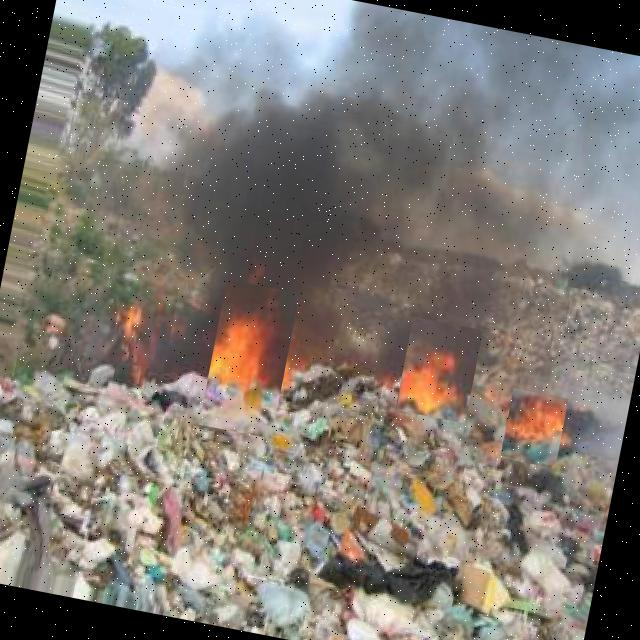fire: (198, 280, 300, 438), (395, 316, 483, 424), (72, 286, 176, 371), (500, 388, 569, 468)
